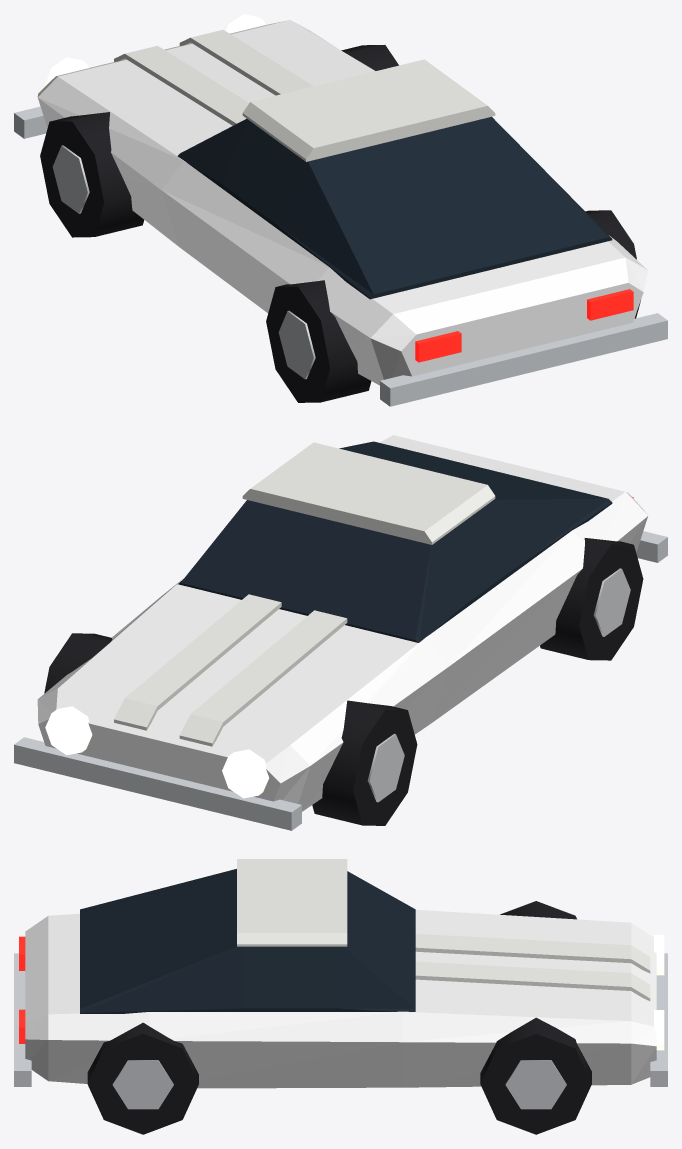
The model's file is classic.glb.
The picture shows the model from 3 angles, top to bottom: view 1: azimuth 30°, elevation 25°; view 2: azimuth 150°, elevation 25°; view 3: azimuth 270°, elevation 25°; orthographic projection. The views are drawn at different scales.
Visible parts, largest first — view 1: object 1, object 2, wheel (×4), object 3, object 7, object 4, wheel-hub (×2), object 5, object 17, object 19, object 6; view 2: object 1, object 2, wheel (×3), object 3, object 6, object 4, object 5, wheel-hub (×2), object 16, object 18, object 7; view 3: object 1, object 2, wheel (×3), object 3, wheel-hub (×2), object 4, object 5, object 7, object 6.
Part boxes in pixels (<box>): object 1: <box>37,20,648,385</box>; object 2: <box>177,116,612,299</box>; wheel (×4): <box>40,45,640,402</box>; object 3: <box>242,59,495,161</box>; object 7: <box>380,313,667,406</box>; object 4: <box>114,45,248,125</box>; wheel-hub (×2): <box>52,145,315,379</box>; object 5: <box>179,29,313,95</box>; object 17: <box>415,331,461,362</box>; object 19: <box>587,289,633,320</box>; object 6: <box>14,106,47,138</box>; object 1: <box>37,435,647,811</box>; object 2: <box>178,441,612,642</box>; wheel (×3): <box>44,538,643,825</box>; object 3: <box>242,442,495,544</box>; object 6: <box>14,737,301,830</box>; object 4: <box>179,610,347,746</box>; object 5: <box>114,594,281,730</box>; wheel-hub (×2): <box>367,568,630,802</box>; object 16: <box>222,749,268,798</box>; object 18: <box>45,706,92,755</box>; object 7: <box>636,531,667,562</box>; object 1: <box>25,909,656,1088</box>; object 2: <box>80,869,415,1013</box>; wheel (×3): <box>87,901,591,1134</box>; object 3: <box>237,859,347,946</box>; wheel-hub (×2): <box>112,1060,566,1109</box>; object 4: <box>415,934,650,973</box>; object 5: <box>415,961,650,1000</box>; object 7: <box>14,953,31,1086</box>; object 6: <box>650,953,667,1086</box>.
Size of the model in its own units: 2.51 by 1.5 by 5.16.
